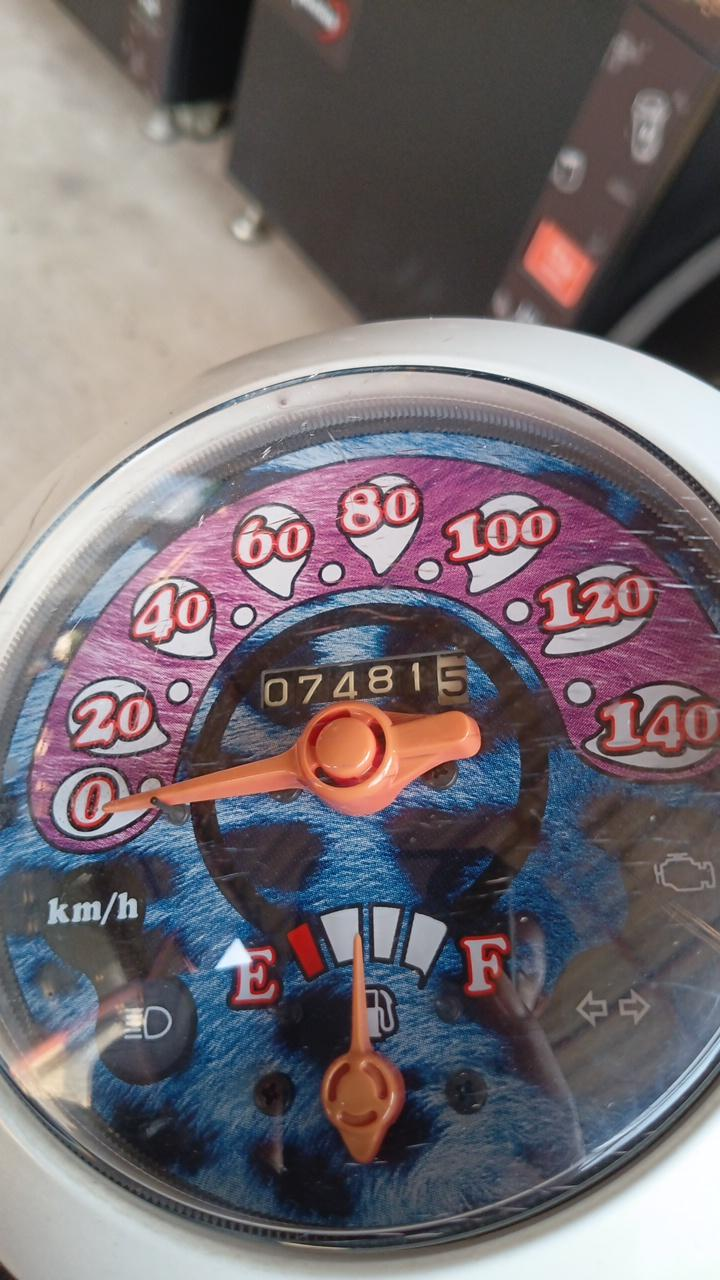0: (264, 676, 289, 708)
1: (410, 661, 422, 692)
4: (332, 669, 358, 701)
5: (440, 664, 468, 698)
7: (298, 674, 322, 705)
8: (368, 665, 393, 695)
odometer: (257, 647, 474, 713)
